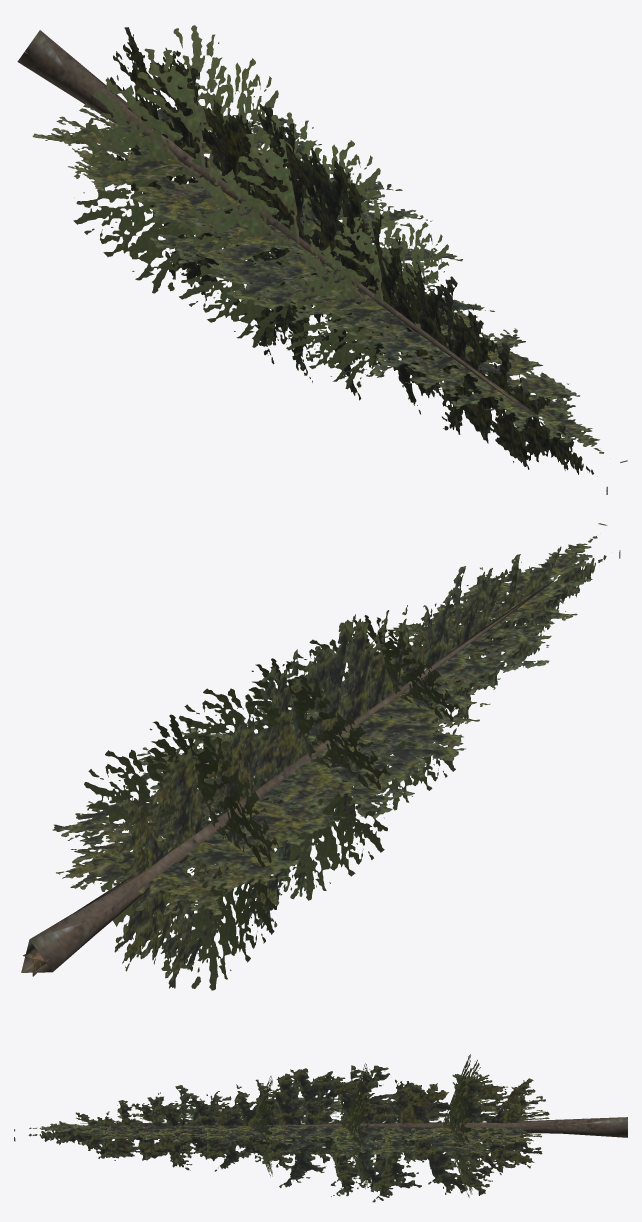
File: tree_background_04.obj
3 renders of one model, top to bottom at view 1: azimuth 30°, elevation 25°; view 2: azimuth 150°, elevation 25°; view 3: azimuth 270°, elevation 25°, orthographic. The views are drawn at different scales.
Parts seen in each view (by area): view 1: tree_background_04; view 2: tree_background_04; view 3: tree_background_04.
Boxes of the visible parts, x1,y1,x2,y2 form: tree_background_04: (17,25,627,494); tree_background_04: (21,523,620,990); tree_background_04: (14,1054,627,1202).
Size of the model in its own units: 6.69 by 7.05 by 26.01.
1 material, 1 textured.
